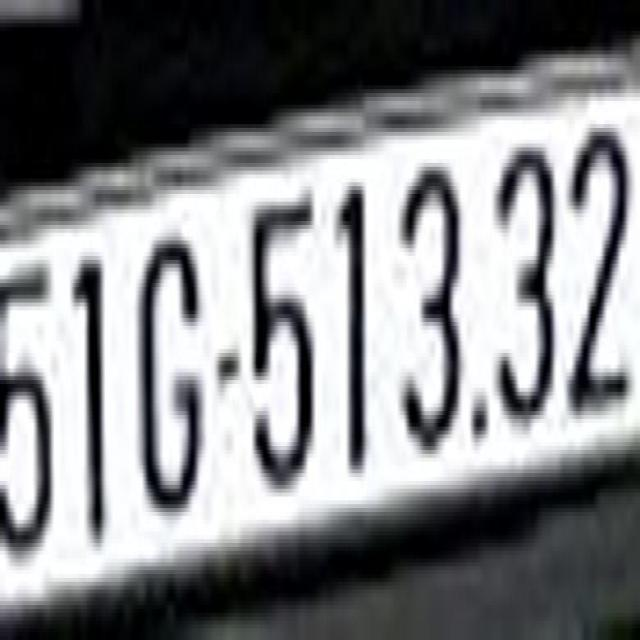1: (332, 162, 369, 474), (75, 260, 108, 555)
2: (564, 128, 627, 408)
3: (390, 143, 466, 466), (487, 112, 557, 423)
5: (250, 163, 316, 497), (0, 255, 52, 562)
G: (136, 221, 202, 528)
